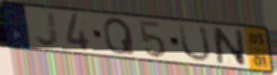4: (65, 13, 92, 53)
5: (137, 19, 168, 60)
J: (33, 10, 61, 48)
N: (212, 26, 248, 68)
Q: (102, 17, 137, 56)
U: (177, 23, 213, 63)
